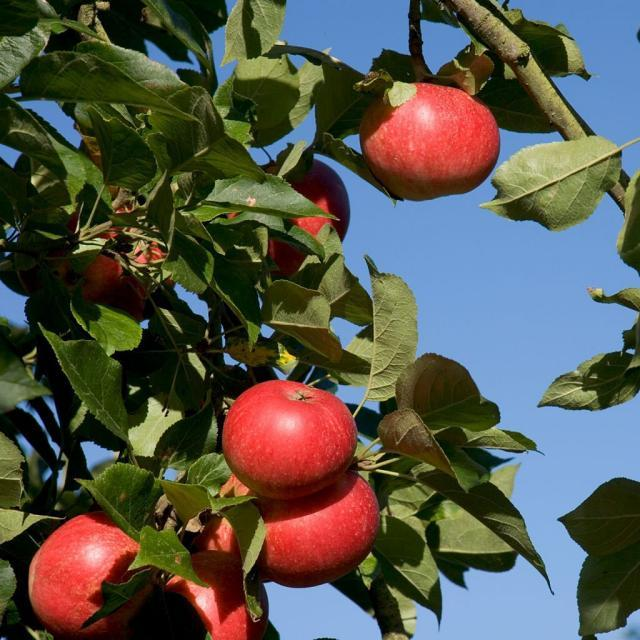Red Apple: (218, 373, 366, 495), (361, 80, 501, 201), (35, 510, 162, 637), (256, 469, 389, 580), (238, 156, 352, 266), (150, 544, 268, 640)
